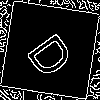D: (25, 25, 83, 81)
